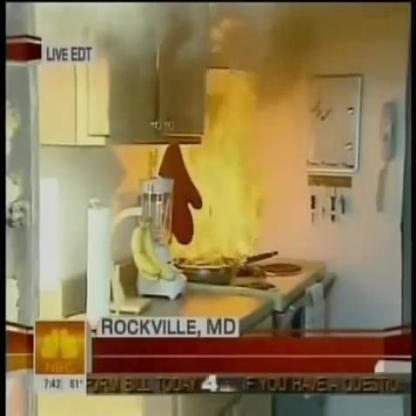fire: (153, 68, 289, 267)
